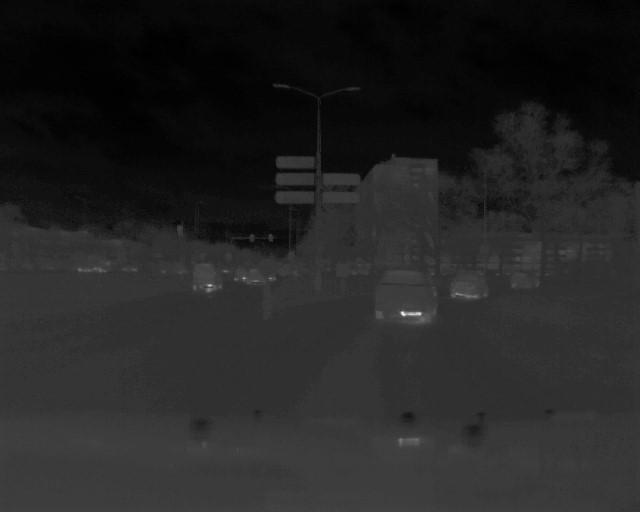car: (371, 267, 442, 326), (450, 271, 492, 301), (190, 263, 227, 294)
